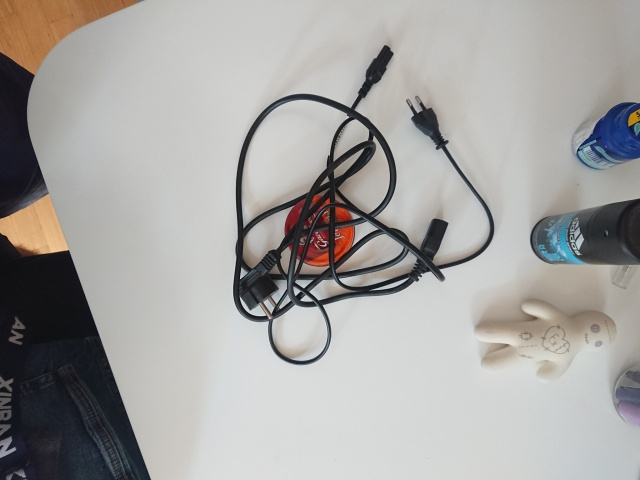Gavrilovic Pork Liver Pate 100g: (282, 193, 358, 268)
